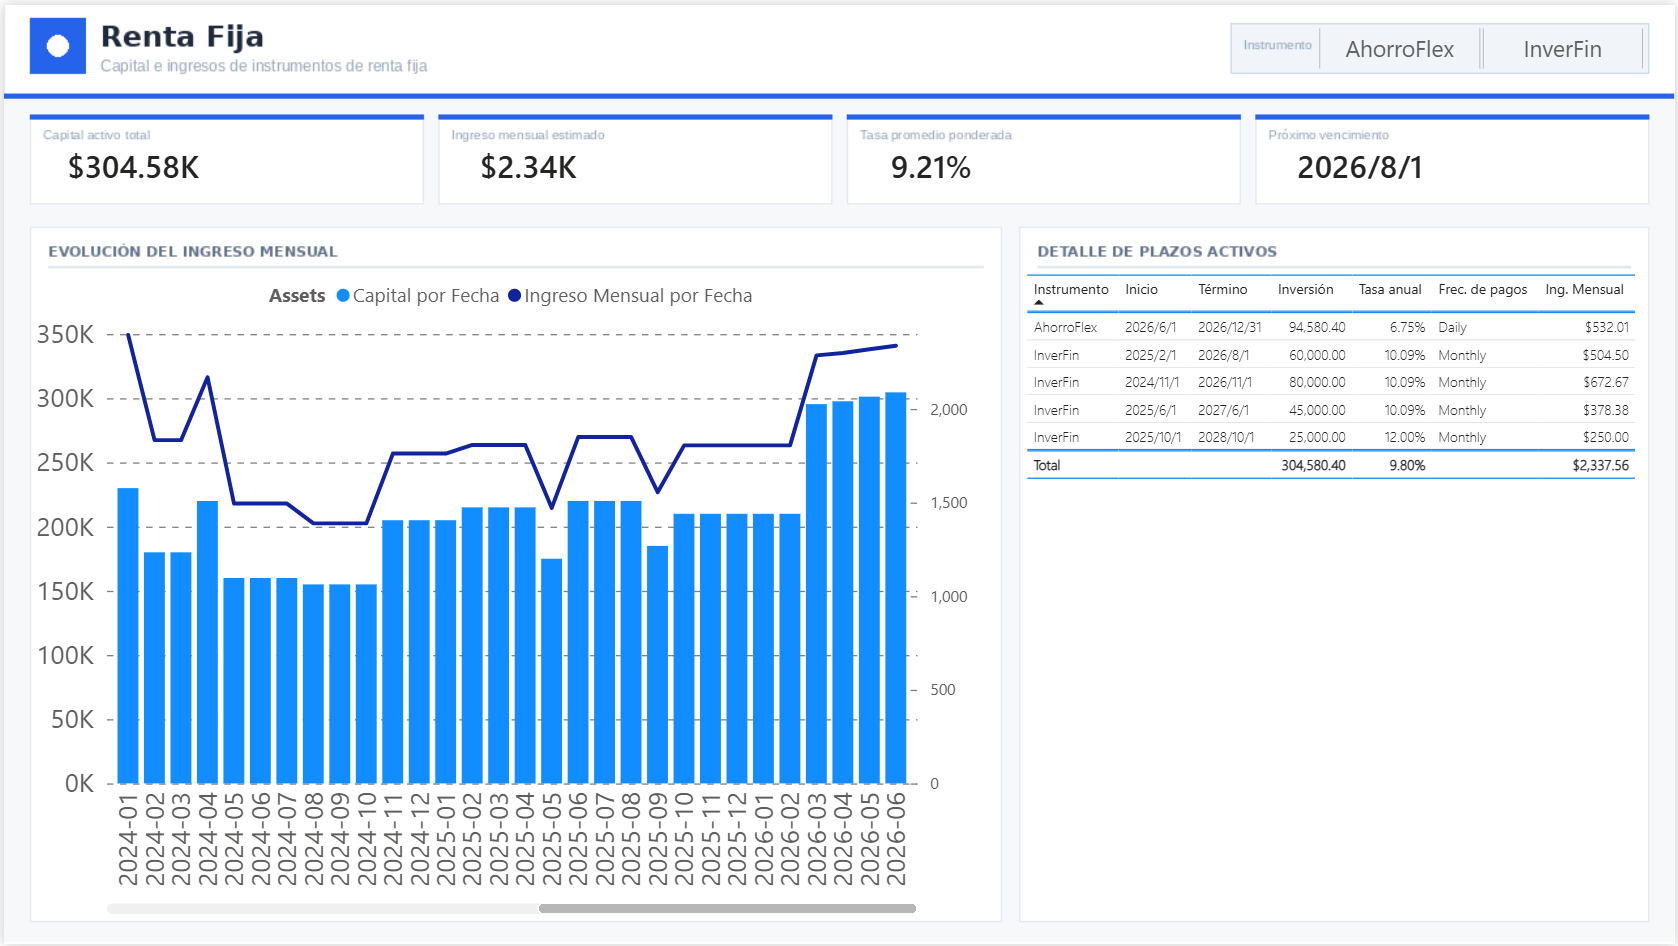

The dashboard page shown, as its layout file describes it:
{"tool":"powerbi","page":{"name":"Renta fija","canvas":[1280,720],"ordinal":4},"visuals":[{"type":"tableEx","title":"Rendimiento por activo","fields":{"Values":["Fact_FixedIncome.AssetName","Fact_FixedIncome.StartDate","Fact_FixedIncome.EndDate","Sum(Fact_FixedIncome.Principal_MXN)","Avg(Fact_FixedIncome.AnnualRate)","Fact_FixedIncome.PaymentFrequency","Fact_FixedIncome.Ingreso Mensual Estimado"]},"box":[777.9,201.3,480.5,500],"z":0},{"type":"cardVisual","title":"Patrimonio total MXN","fields":{"Data":["Fact_FixedIncome.Capital Activo MXN"]},"box":[19.5,93.5,224.7,57.1],"z":1000},{"type":"cardVisual","title":"Patrimonio total MXN","fields":{"Data":["Fact_FixedIncome.Ingreso Mensual Estimado"]},"box":[335.1,93.5,223.4,57.1],"z":2000},{"type":"cardVisual","title":"Variación vs mes anterior","fields":{"Data":["Fact_FixedIncome.Tasa Promedio Ponderada"]},"box":[650.6,93.5,223.4,57.1],"z":3000},{"type":"cardVisual","title":"Variación vs mes anterior","fields":{"Data":["Fact_FixedIncome.Próximo Vencimiento"]},"box":[962.3,93.5,223.4,57.1],"z":4000},{"type":"lineClusteredColumnComboChart","title":"Evolución del patrimonio por categoría","fields":{"Category":["Calendar.YearMonth"],"Y":["Fact_FixedIncome.Capital por Fecha"],"Y2":["Fact_FixedIncome.Ingreso Mensual por Fecha"]},"box":[19.5,201.3,742.9,500],"z":5000},{"type":"slicer","title":"Clase de activo","fields":{"Values":["Fact_FixedIncome.AssetName"]},"box":[984.4,13,296.1,37.7],"z":6000}]}

Visuals, with their boxes in screenshot pixels (x1, y1, x2, y2), scaled from the page's 1280x720 canvas onto the 1678x946 screenshot:
"Rendimiento por activo" tableEx: x1=1020 y1=264 x2=1650 y2=921
"Patrimonio total MXN" cardVisual: x1=26 y1=123 x2=320 y2=198
"Patrimonio total MXN" cardVisual: x1=439 y1=123 x2=732 y2=198
"Variación vs mes anterior" cardVisual: x1=853 y1=123 x2=1146 y2=198
"Variación vs mes anterior" cardVisual: x1=1262 y1=123 x2=1554 y2=198
"Evolución del patrimonio por categoría" lineClusteredColumnComboChart: x1=26 y1=264 x2=999 y2=921
"Clase de activo" slicer: x1=1290 y1=17 x2=1677 y2=67
